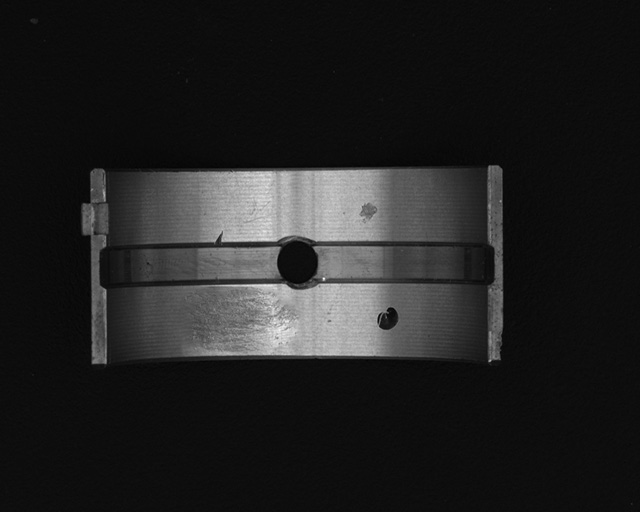blot: (376, 307, 399, 333)
bruise: (358, 201, 379, 223), (216, 231, 224, 244)
gap: (99, 240, 285, 289), (313, 241, 494, 287)
hole: (277, 236, 321, 290)
scratch: (184, 287, 301, 355)
